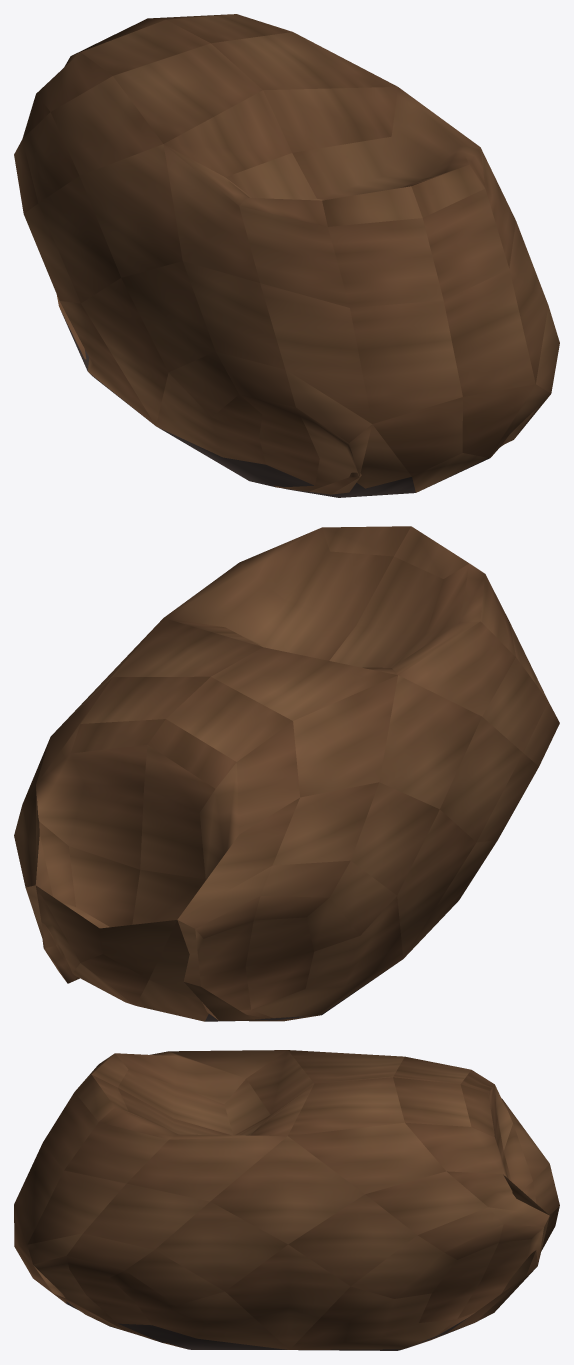
File: SM_Bear_Body.fbx
3 renders of one model, top to bottom at view 1: azimuth 30°, elevation 25°; view 2: azimuth 150°, elevation 25°; view 3: azimuth 270°, elevation 25°, orthographic. The views are drawn at different scales.
Visible parts, largest first — view 1: SM_Bear_Body; view 2: SM_Bear_Body; view 3: SM_Bear_Body.
Boxes of the visible parts, x1=… form: SM_Bear_Body: x1=14, y1=14, x2=559, y2=497; SM_Bear_Body: x1=14, y1=526, x2=559, y2=1021; SM_Bear_Body: x1=14, y1=1050, x2=559, y2=1350.
Bounding box in the file's own units: 3.8 × 3.7 × 7.5.
1 material, 1 textured.
